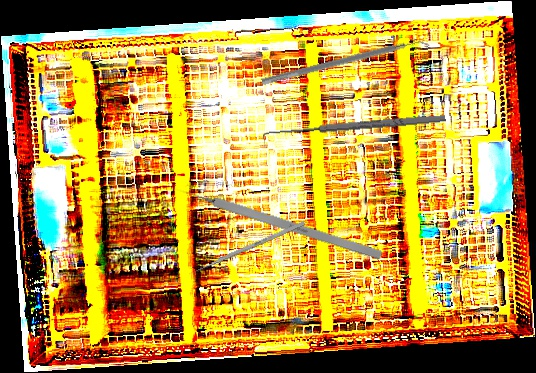Hook Surgical: (171, 183, 384, 261), (262, 112, 447, 146)
Pusher: (187, 220, 306, 277)
Spatula Surgical: (260, 33, 432, 94)
